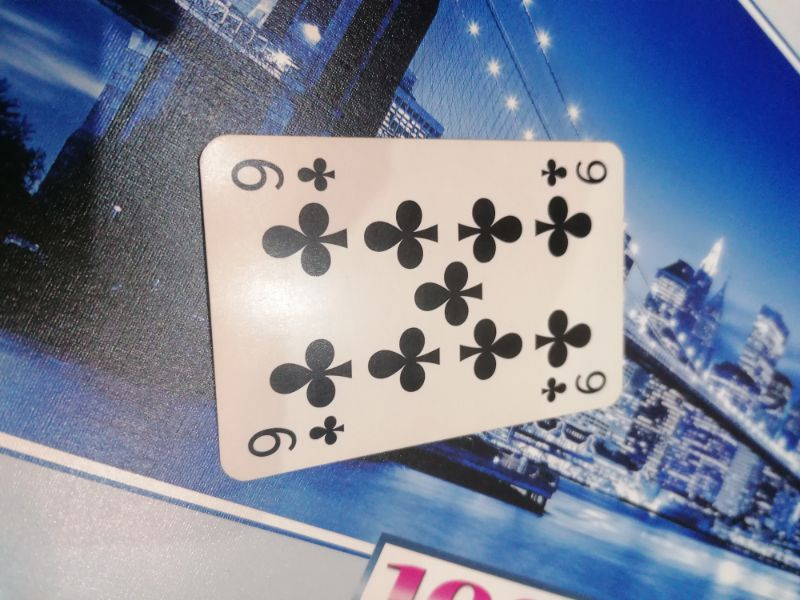9c: (225, 151, 340, 195), (246, 411, 348, 458), (535, 153, 612, 192), (537, 366, 612, 406)
